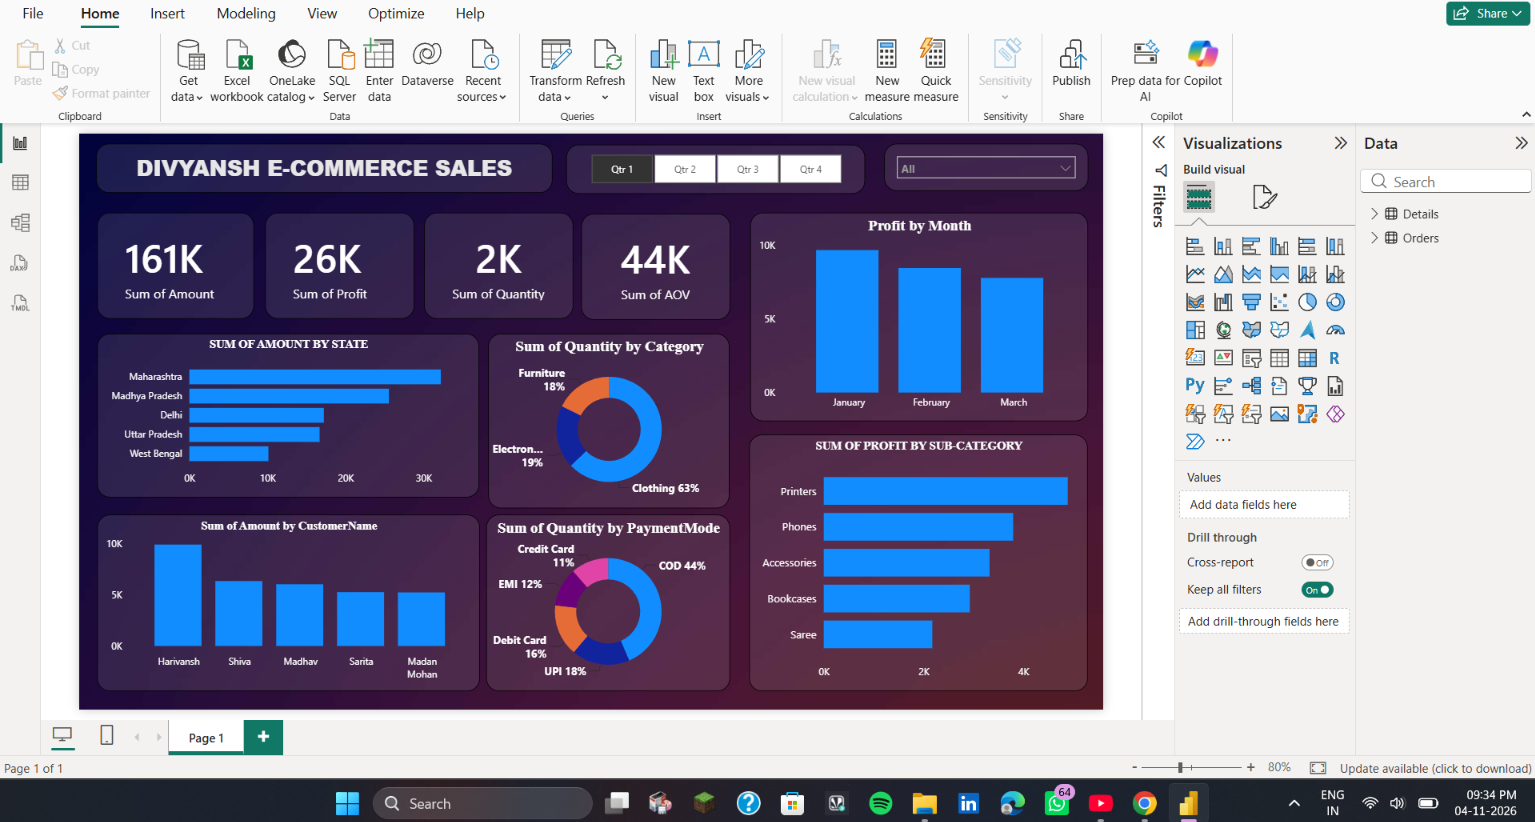

This screenshot's page, from the dashboard's own definition file:
{"tool":"powerbi","page":{"name":"Page 1","canvas":[1280,720],"ordinal":0},"visuals":[{"type":"textbox","box":[21.7,12.1,570.6,61.5],"z":0},{"type":"columnChart","title":"Profit by Month","fields":{"Category":["Orders.Order Date.Variation.Date Hierarchy.Month"],"Y":["Sum(Details.Profit)"]},"box":[838.4,98.8,422.6,260.7],"z":1000},{"type":"barChart","title":"SUM OF PROFIT BY SUB-CATEGORY","fields":{"Category":["Details.Sub-Category"],"Y":["Sum(Details.Profit)"]},"box":[838,376,423,321],"z":2000},{"type":"donutChart","fields":{"Y":["Sum(Details.Quantity)"],"Category":["Details.Category"]},"box":[511.8,249.7,301.9,218.2],"z":3000},{"type":"donutChart","fields":{"Y":["Sum(Details.Quantity)"],"Category":["Details.PaymentMode"]},"box":[509.1,476.2,304.6,220.9],"z":4000},{"type":"cardVisual","fields":{"Data":["Sum(Details.Amount)"]},"box":[22,98.8,196.2,133.1],"z":5000},{"type":"cardVisual","fields":{"Data":["Sum(Details.Profit)"]},"box":[231.9,98.8,186.6,133.1],"z":6000},{"type":"cardVisual","fields":{"Data":["Sum(Details.Quantity)"]},"box":[430.9,98.8,186.6,133.1],"z":7000},{"type":"cardVisual","fields":{"Data":["Sum(Details.AOV)"]},"box":[627.1,100.2,186.6,133.1],"z":8000},{"type":"barChart","title":"SUM OF AMOUNT BY STATE","fields":{"Category":["Orders.State"],"Y":["Sum(Details.Amount)"]},"box":[22,249.7,477.5,204.5],"z":9000},{"type":"columnChart","fields":{"Category":["Orders.CustomerName"],"Y":["Sum(Details.Amount)"]},"box":[22,476,478,221],"z":10000},{"type":"slicer","fields":{"Values":["Orders.Order Date.Variation.Date Hierarchy.Quarter"]},"box":[609.3,13.3,374,61.5],"z":11000},{"type":"slicer","fields":{"Values":["Orders.State"]},"box":[1005.8,12.3,255.2,59],"z":12000}]}

Visuals, with their boxes on the page's 1280x720 design canvas (x1, y1, x2, y2). These are canvas units, not pixel positions in the 1535x822 screenshot, which may show the page scaled, cropped or inside an application window:
textbox: bbox=(22, 12, 592, 74)
"Profit by Month" columnChart: bbox=(838, 99, 1261, 360)
"SUM OF PROFIT BY SUB-CATEGORY" barChart: bbox=(838, 376, 1261, 697)
donutChart - Sum(Details.Quantity) x Details.Category: bbox=(512, 250, 814, 468)
donutChart - Sum(Details.Quantity) x Details.PaymentMode: bbox=(509, 476, 814, 697)
cardVisual - Sum(Details.Amount): bbox=(22, 99, 218, 232)
cardVisual - Sum(Details.Profit): bbox=(232, 99, 418, 232)
cardVisual - Sum(Details.Quantity): bbox=(431, 99, 618, 232)
cardVisual - Sum(Details.AOV): bbox=(627, 100, 814, 233)
"SUM OF AMOUNT BY STATE" barChart: bbox=(22, 250, 500, 454)
columnChart - Orders.CustomerName x Sum(Details.Amount): bbox=(22, 476, 500, 697)
slicer - Orders.Order Date.Variation.Date Hierarchy.Quarter: bbox=(609, 13, 983, 75)
slicer - Orders.State: bbox=(1006, 12, 1261, 71)
